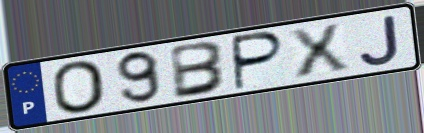9: (113, 49, 164, 106)
B: (169, 40, 230, 101)
J: (356, 13, 403, 68)
O: (49, 58, 109, 116)
P: (232, 29, 288, 93)
X: (285, 21, 353, 80)
